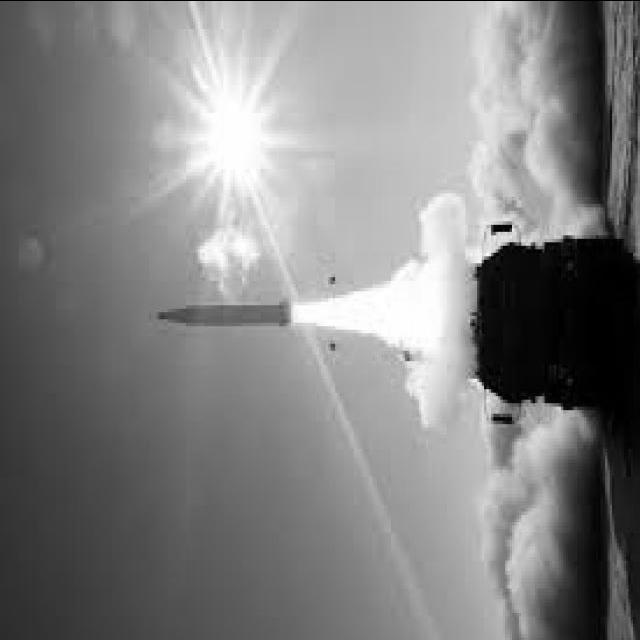missile: (156, 294, 299, 340)
